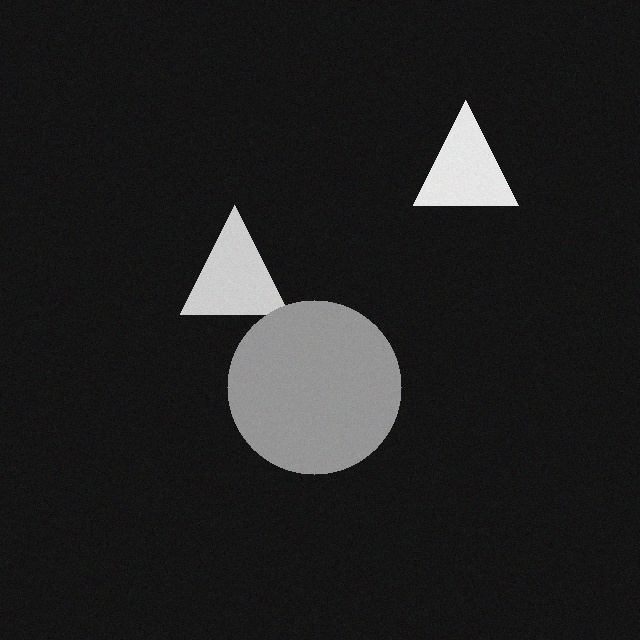circle: (216, 305, 390, 479)
triangle: (169, 210, 278, 319), (402, 105, 507, 210)
